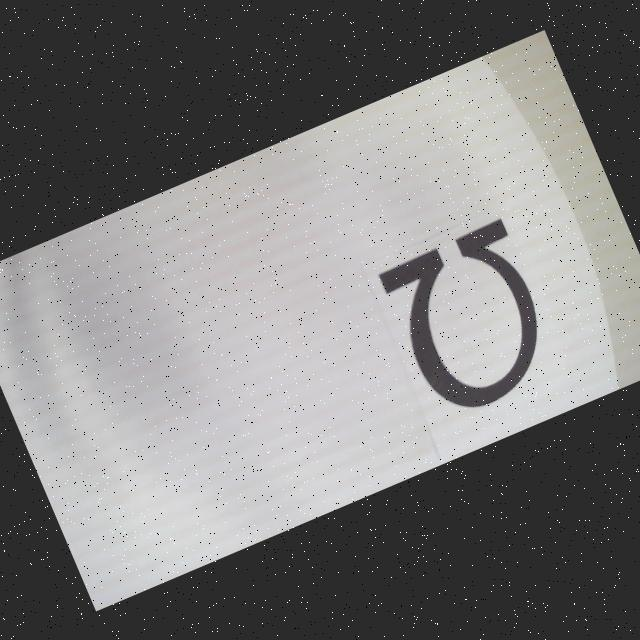OMEGA: (374, 217, 566, 424)
